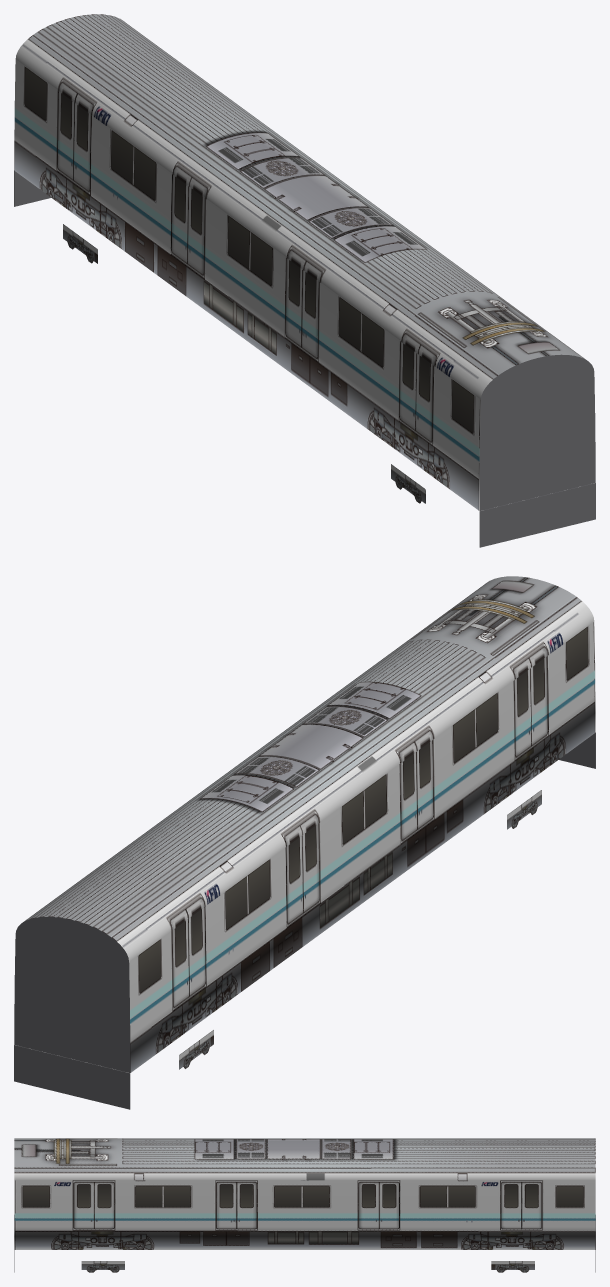
File: car2.glb
3 renders of one model, top to bottom at view 1: azimuth 30°, elevation 25°; view 2: azimuth 150°, elevation 25°; view 3: azimuth 270°, elevation 25°, orthographic. The views are drawn at different scales.
Visible parts, largest first — view 1: keio1000_car2; view 2: keio1000_car2; view 3: keio1000_car2.
Part boxes in pixels (x1,y1,x2,y2): keio1000_car2: (14,14,595,547); keio1000_car2: (14,576,595,1109); keio1000_car2: (14,1138,595,1272).
Size of the model in its own units: 2.81 by 4.05 by 19.53.
5 materials, 4 textured.
